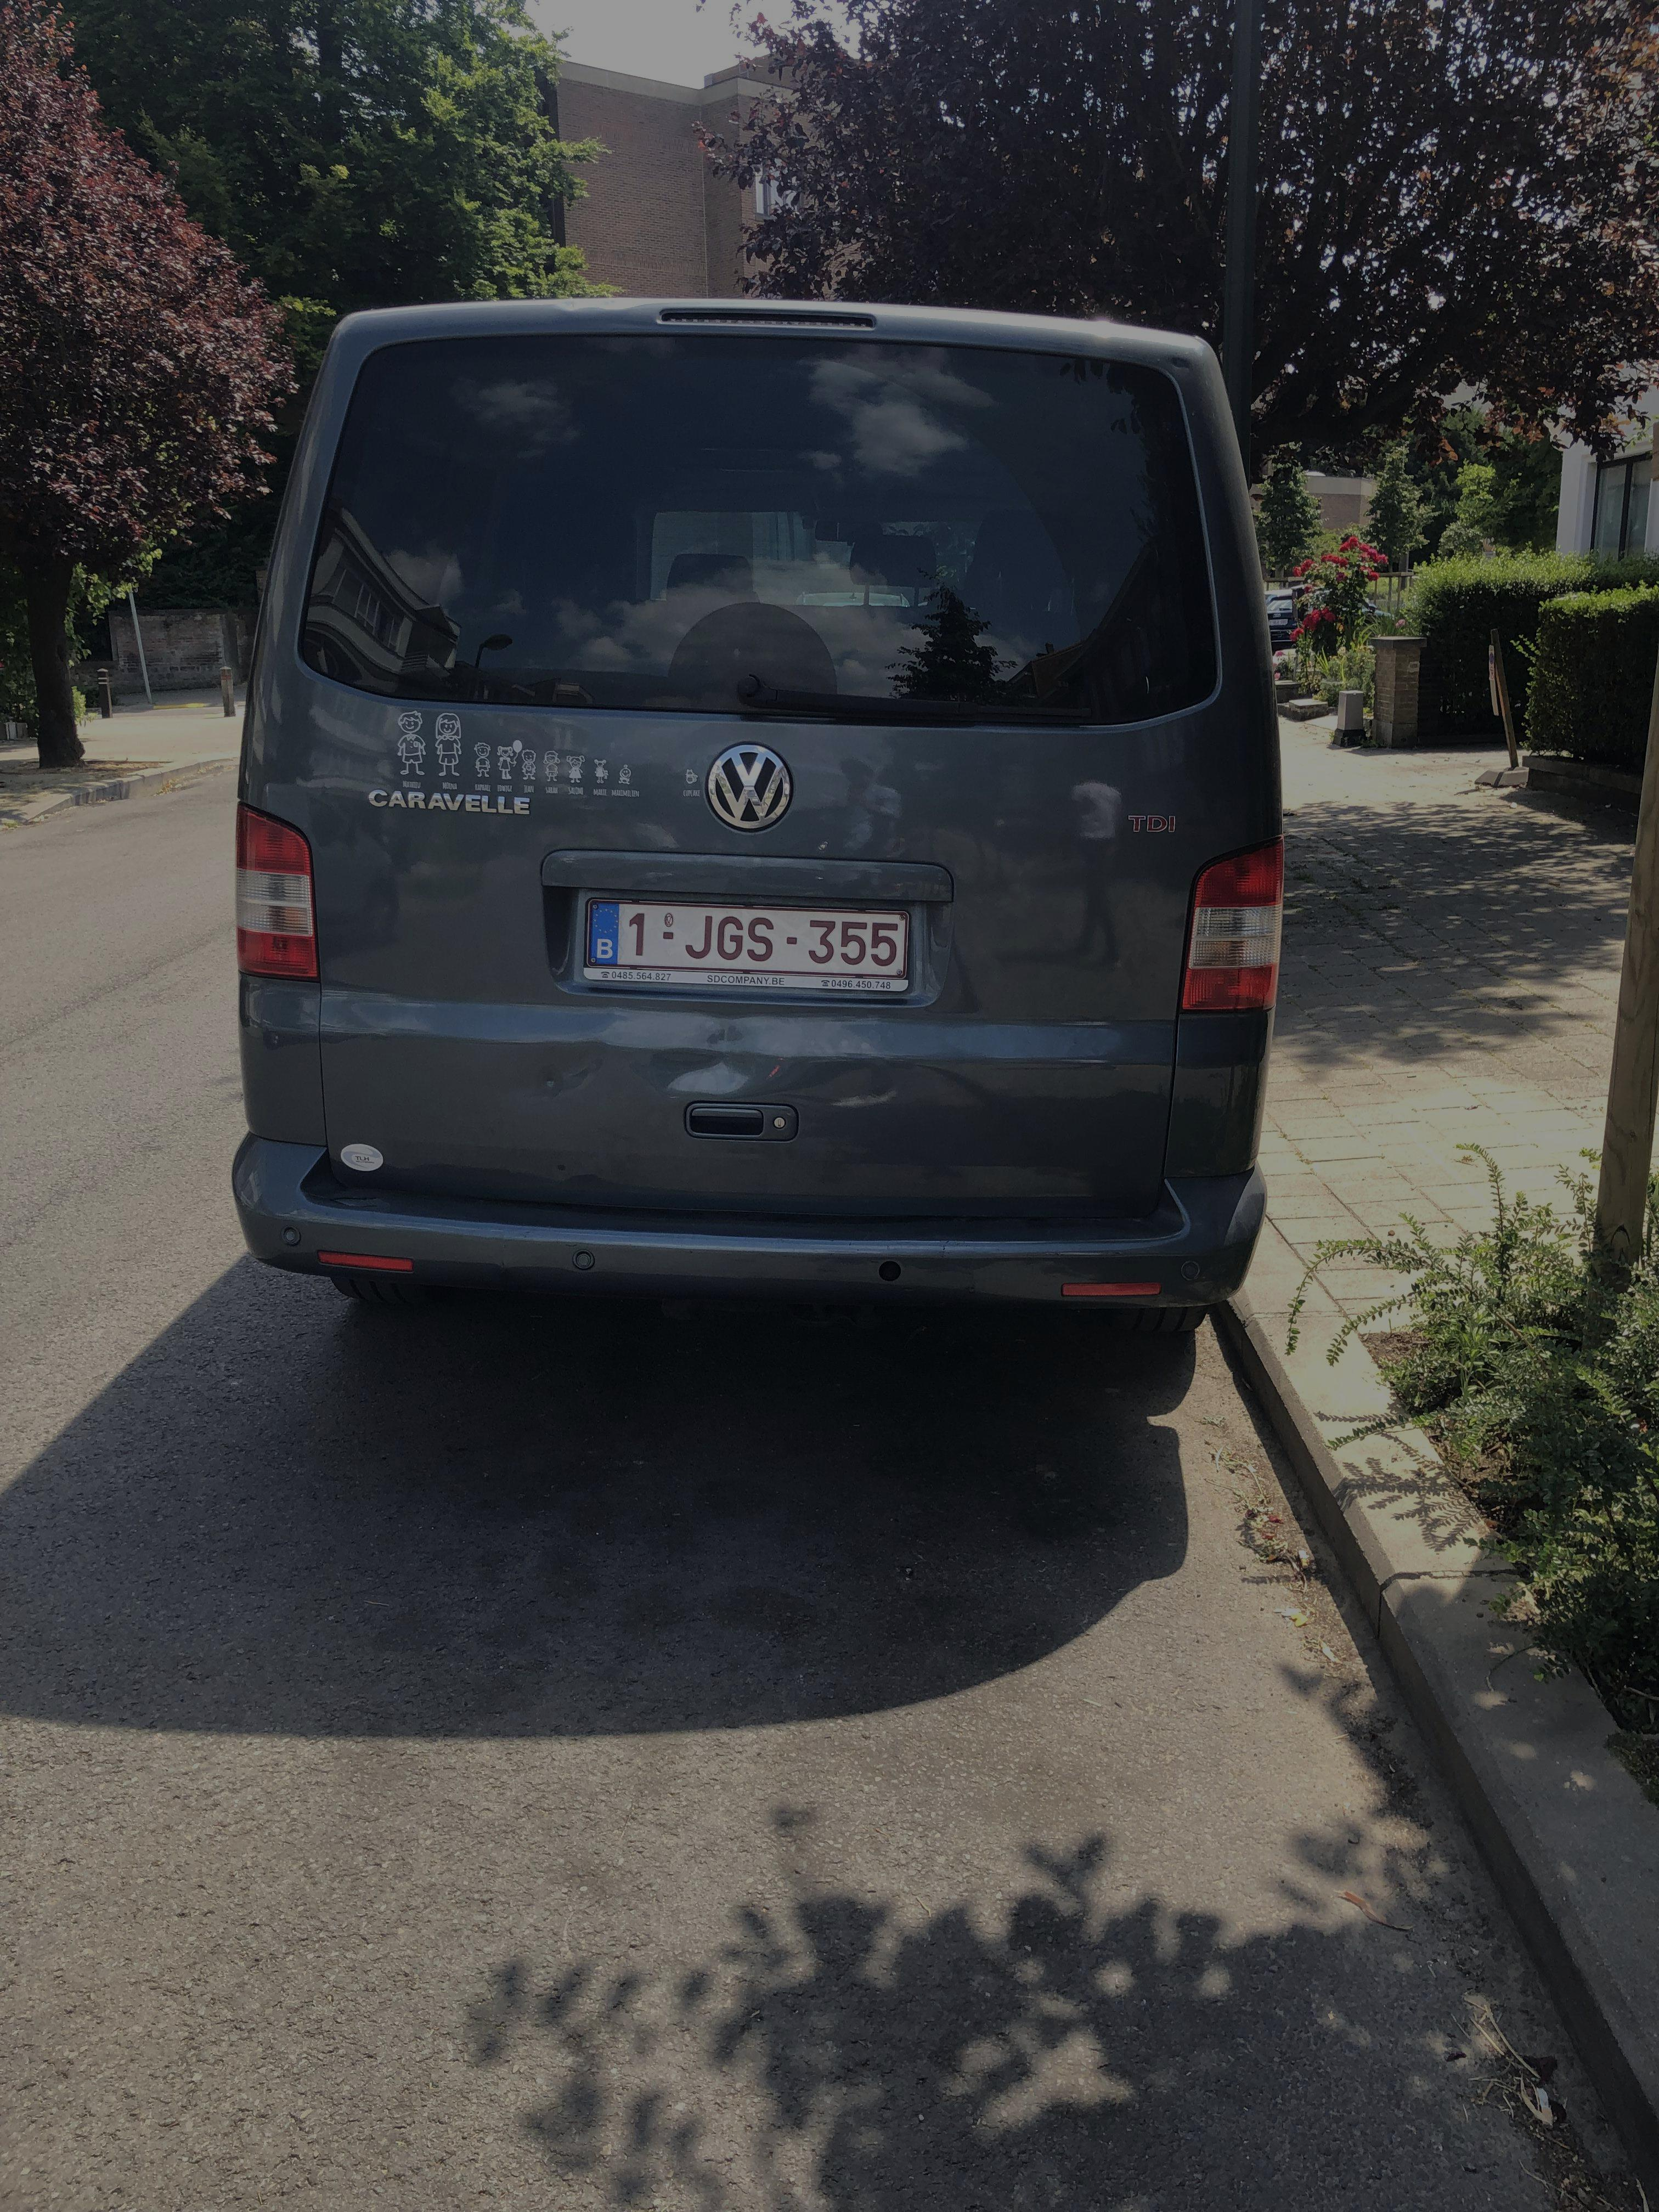plate: (551, 876, 945, 992)
